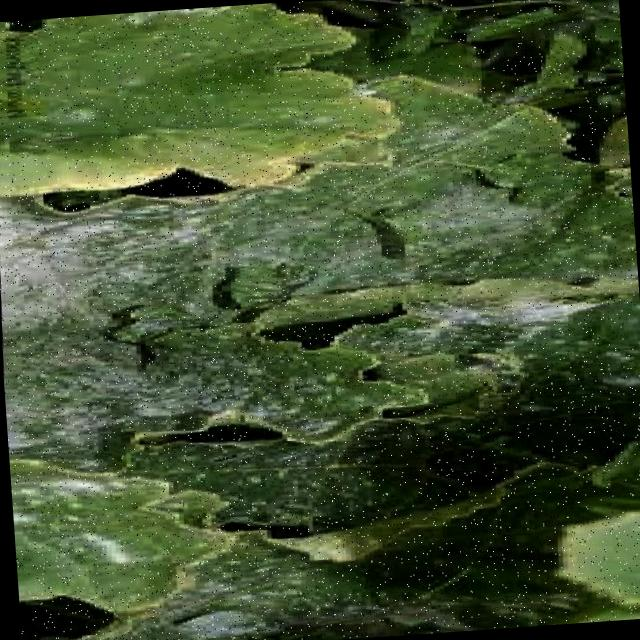Powdery_Mildew: (0, 159, 619, 492)
